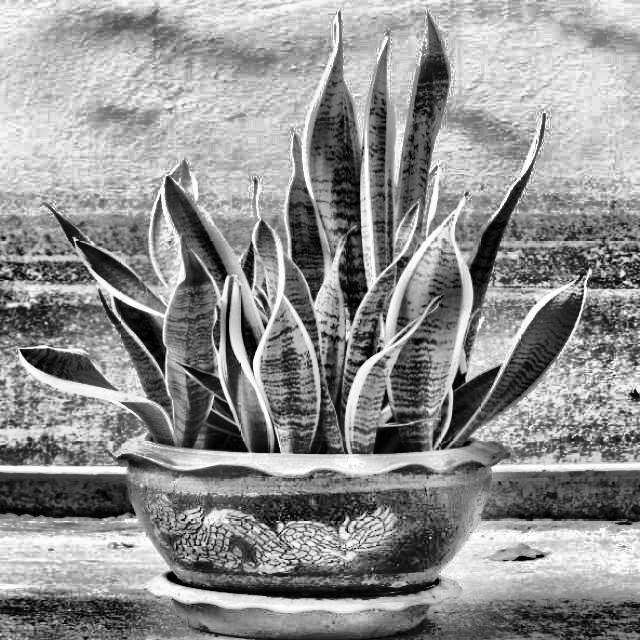plants: (61, 91, 578, 460)
